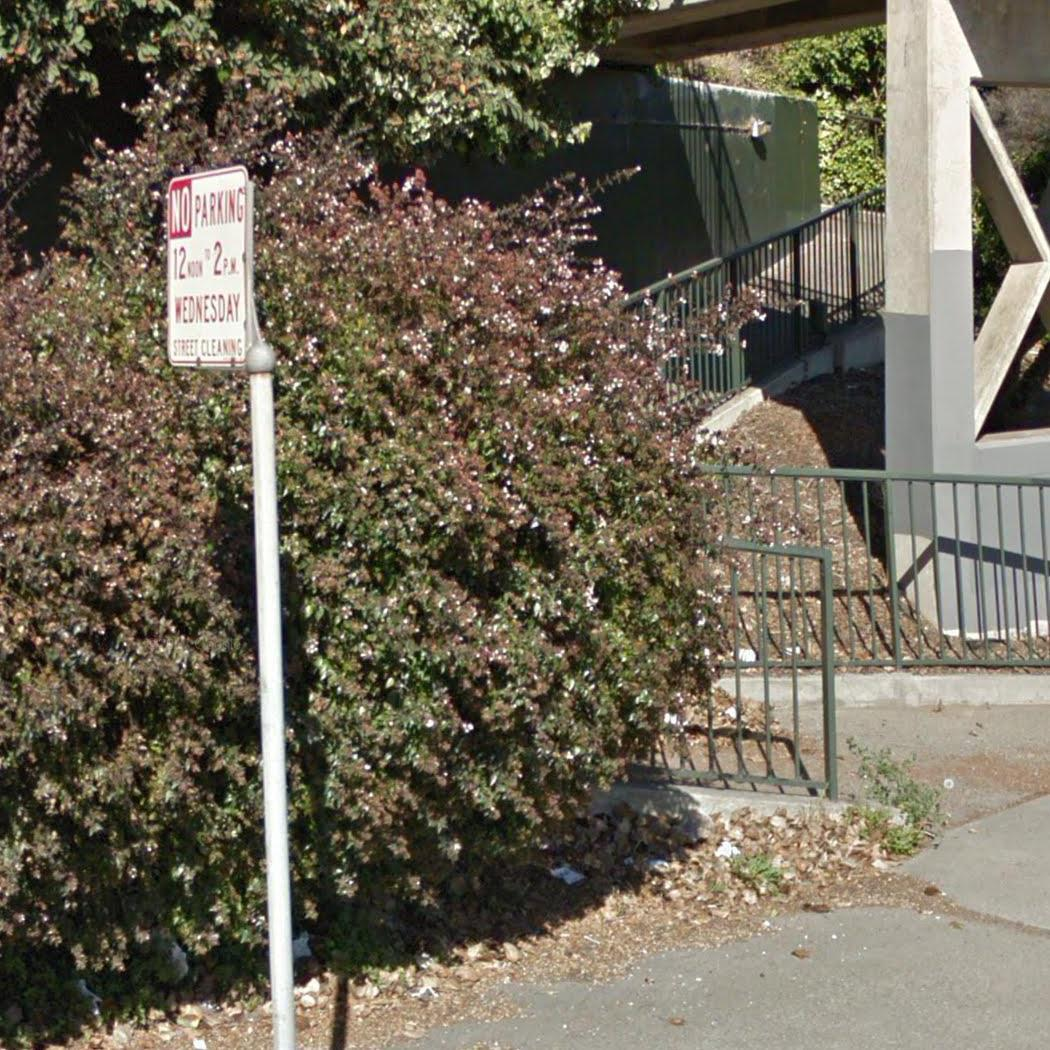No Parking: (164, 166, 256, 369)
